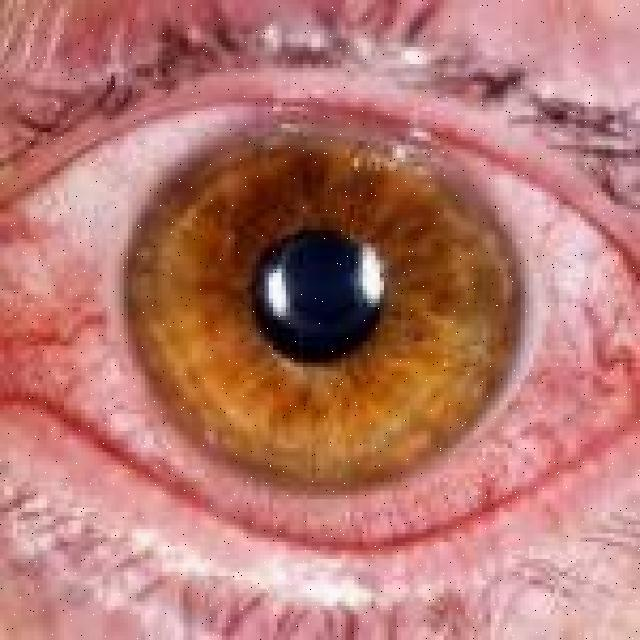Conjunctivitis: (0, 114, 640, 544)
